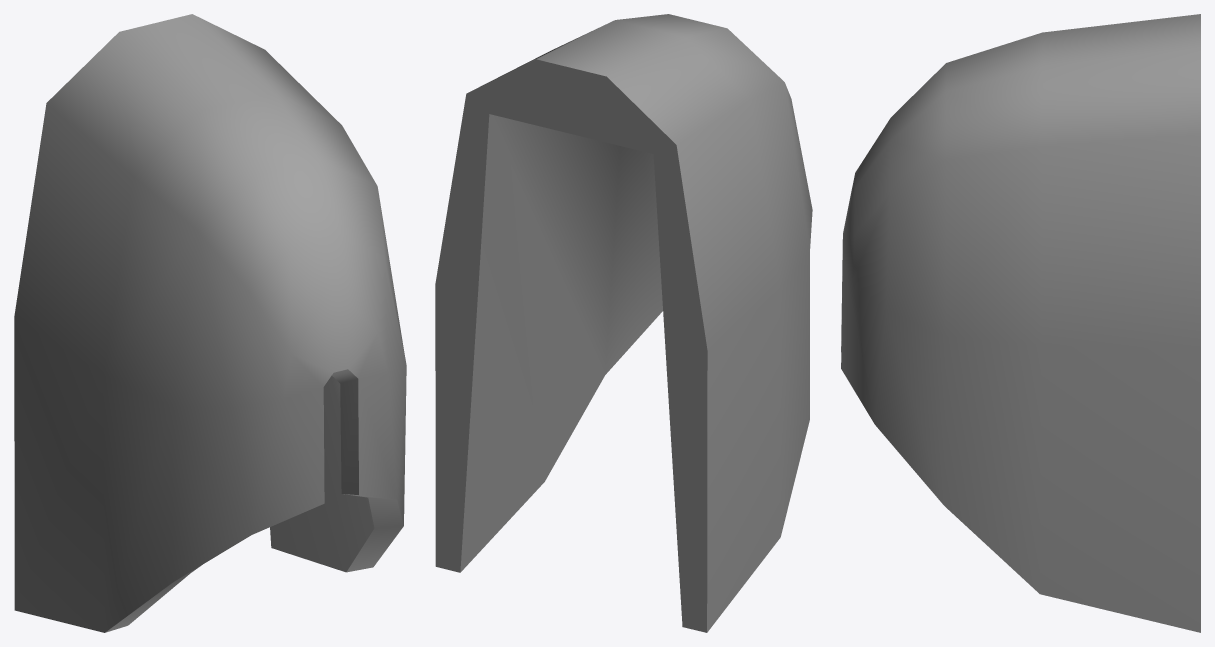
Rendered from space_station_030.fbx.
3 renders of one model, left to right at view 1: azimuth 30°, elevation 25°; view 2: azimuth 150°, elevation 25°; view 3: azimuth 270°, elevation 25°, orthographic. The views are drawn at different scales.
Visible parts, largest first — view 1: space_station_030; view 2: space_station_030; view 3: space_station_030.
Part boxes in pixels (box(x1,y1,x2,y2)): space_station_030: box(14, 14, 406, 632); space_station_030: box(435, 14, 812, 632); space_station_030: box(841, 14, 1200, 632).
Size of the model in its own units: 456 by 519 by 853.
